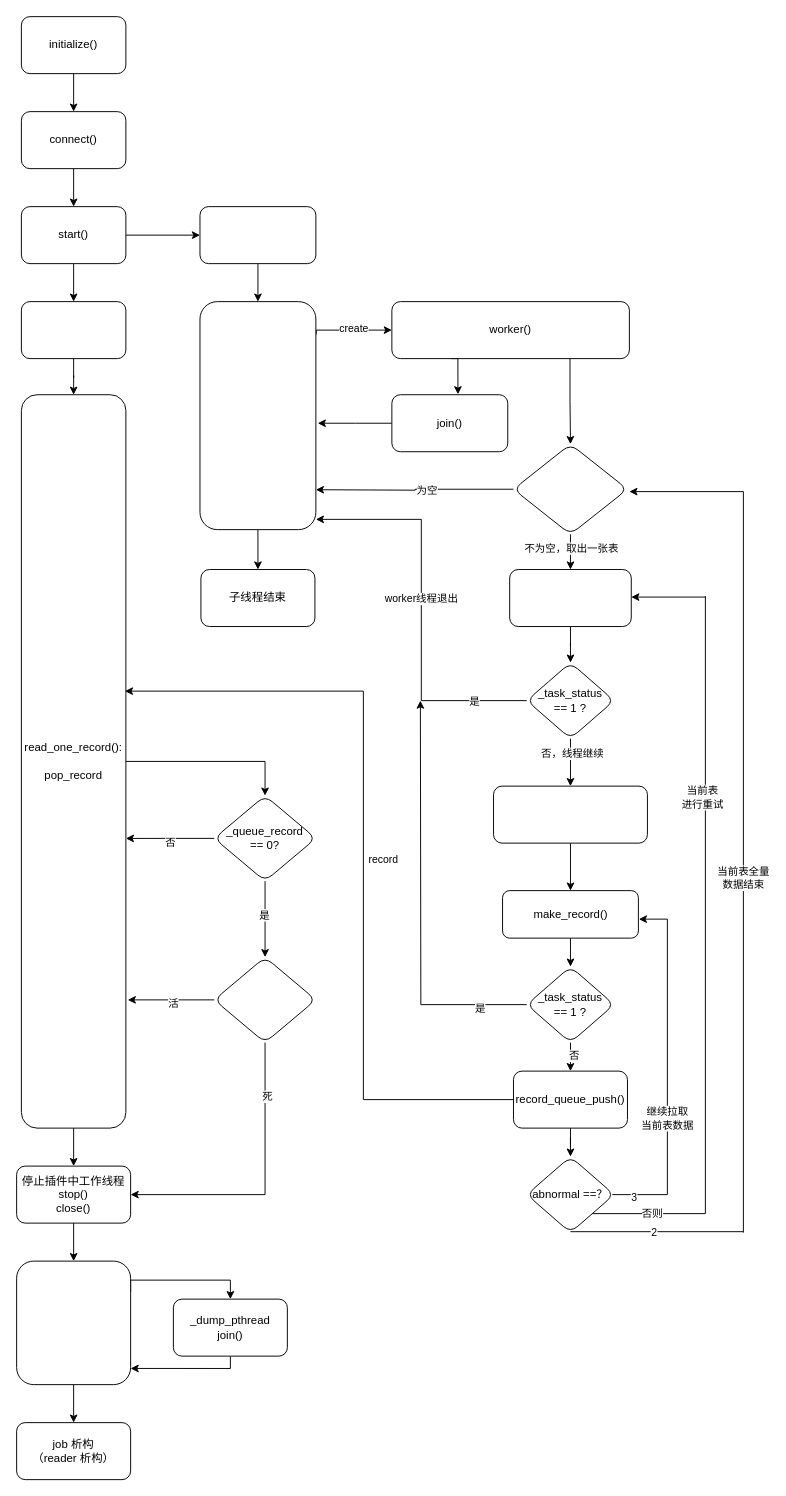
The diagram is 786 pixels wide and 1496 high, and some of its shapes have lost their labels. The centre of each missing label's shape, as x and y in pixels:
"_dump_pthread 探活" belongs at (x=264, y=999).
"_real_tables _nopk_real_tables 不为空" belongs at (x=570, y=488).
"bind_table_and_get_result() 获取表全量数据" belongs at (x=570, y=814).
"disconnect(): _task_status置为1" belongs at (x=73, y=1322).
"dump_table()" belongs at (x=257, y=415).
"get_single_table_data()" belongs at (x=570, y=598).
"run()" belongs at (x=73, y=330).
"send_dump_request()" belongs at (x=257, y=235).
